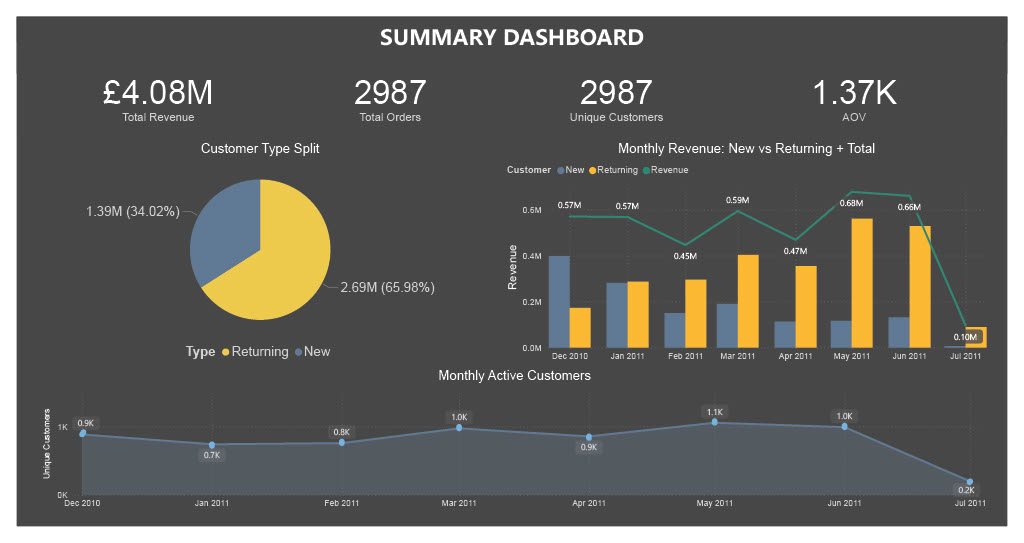

The dashboard page shown, as its layout file describes it:
{"tool":"powerbi","page":{"name":"Executive Summary Dashboard","canvas":[1400,720],"ordinal":0},"visuals":[{"type":"textbox","box":[0,0,1400,80],"z":0},{"type":"card","fields":{"Values":["edata_customer_type.Total Orders"]},"box":[368,64,320,96],"z":1000},{"type":"card","fields":{"Values":["edata_customer_type.Unique Customers"]},"box":[688,64,320,96],"z":2000},{"type":"card","fields":{"Values":["edata_customer_type.Total Revenue"]},"box":[32,64,336,96],"z":3000},{"type":"pieChart","title":"Customer Type Split","fields":{"Category":["edata_customer_type.CustomerType"],"Y":["edata_customer_type.Total Revenue_C"]},"box":[32,176,624,320],"z":4000},{"type":"lineClusteredColumnComboChart","title":"Monthly Revenue: New vs Returning + Total","fields":{"Category":["edata_customer_type.Year_Month"],"Y":["edata_customer_type.Total Revenue"],"Series":["edata_customer_type.CustomerType"],"Y2":["edata_customer_type.Total Revenue"]},"box":[688,176,688,320],"z":5000},{"type":"lineChart","title":"Monthly Active Customers","fields":{"Y":["edata_customer_type.Unique Customers"],"Category":["edata_customer_type.Year_Month"]},"box":[32,496,1344,208],"z":6000},{"type":"card","fields":{"Values":["edata_customer_type.AOV"]},"box":[1024,64,320,96],"z":7000}]}

Visuals, with their boxes on the page's 1400x720 design canvas (x1, y1, x2, y2). These are canvas units, not pixel positions in the 1024x543 screenshot, which may show the page scaled, cropped or inside an application window:
textbox: bbox(0, 0, 1400, 80)
card - edata_customer_type.Total Orders: bbox(368, 64, 688, 160)
card - edata_customer_type.Unique Customers: bbox(688, 64, 1008, 160)
card - edata_customer_type.Total Revenue: bbox(32, 64, 368, 160)
"Customer Type Split" pieChart: bbox(32, 176, 656, 496)
"Monthly Revenue: New vs Returning + Total" lineClusteredColumnComboChart: bbox(688, 176, 1376, 496)
"Monthly Active Customers" lineChart: bbox(32, 496, 1376, 704)
card - edata_customer_type.AOV: bbox(1024, 64, 1344, 160)
